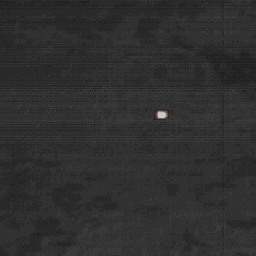Target: (155, 109, 168, 119)
